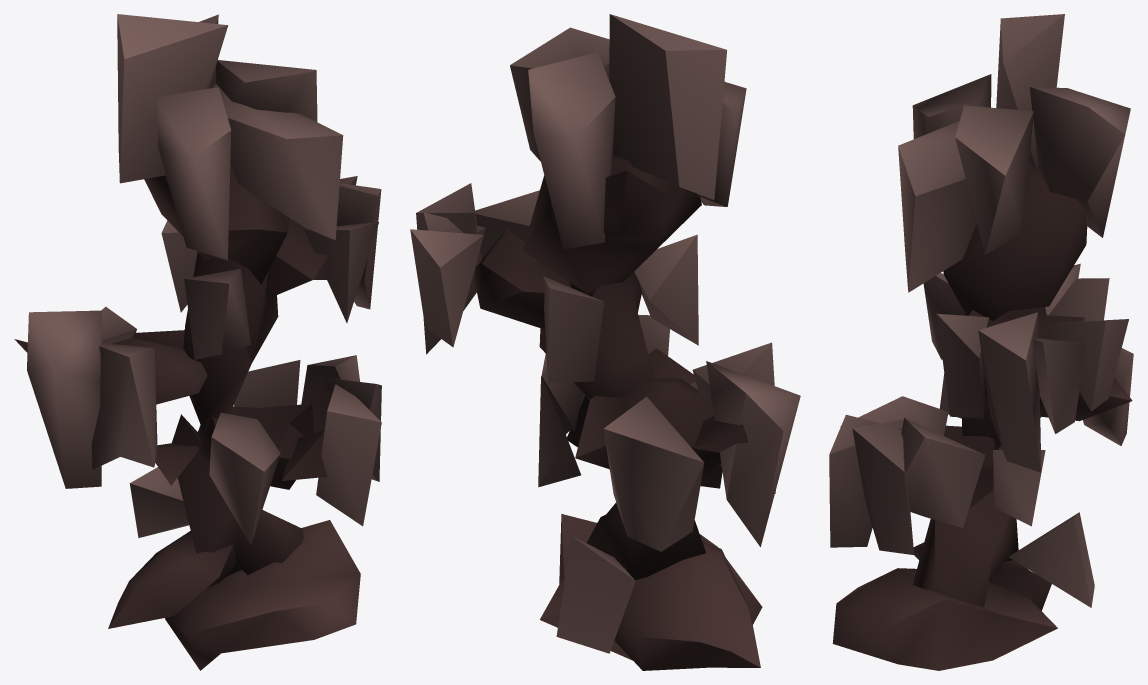
File: hvs_farmables_sodium_lod3.fbx
3 views of the same model, side by side, from view 1: azimuth 30°, elevation 25°; view 2: azimuth 150°, elevation 25°; view 3: azimuth 270°, elevation 25° (orthographic). The views are drawn at different scales.
Visible parts, largest first — view 1: lod0_hvs_farmables_sodium.004; view 2: lod0_hvs_farmables_sodium.004; view 3: lod0_hvs_farmables_sodium.004.
Part boxes in pixels (x1,y1,x2,y2): lod0_hvs_farmables_sodium.004: [14, 14, 381, 670]; lod0_hvs_farmables_sodium.004: [410, 14, 800, 670]; lod0_hvs_farmables_sodium.004: [829, 14, 1133, 670].
Size of the model in its own units: 9.46 by 15.96 by 7.13.
